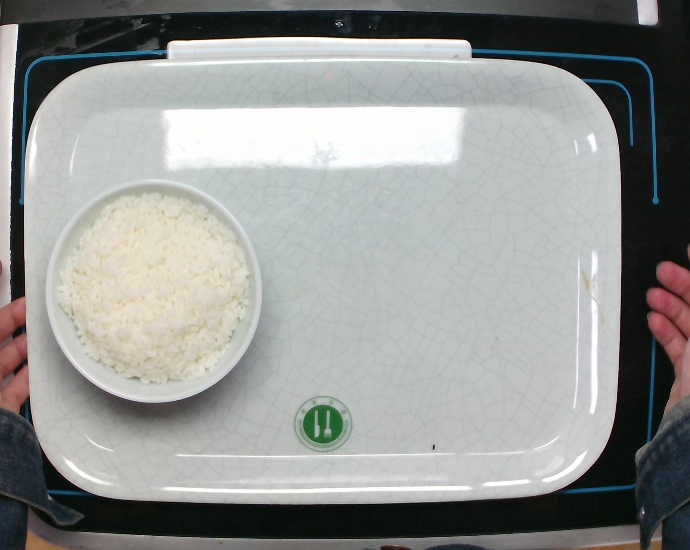JYsf-Fan_Wan: (43, 176, 264, 406)
